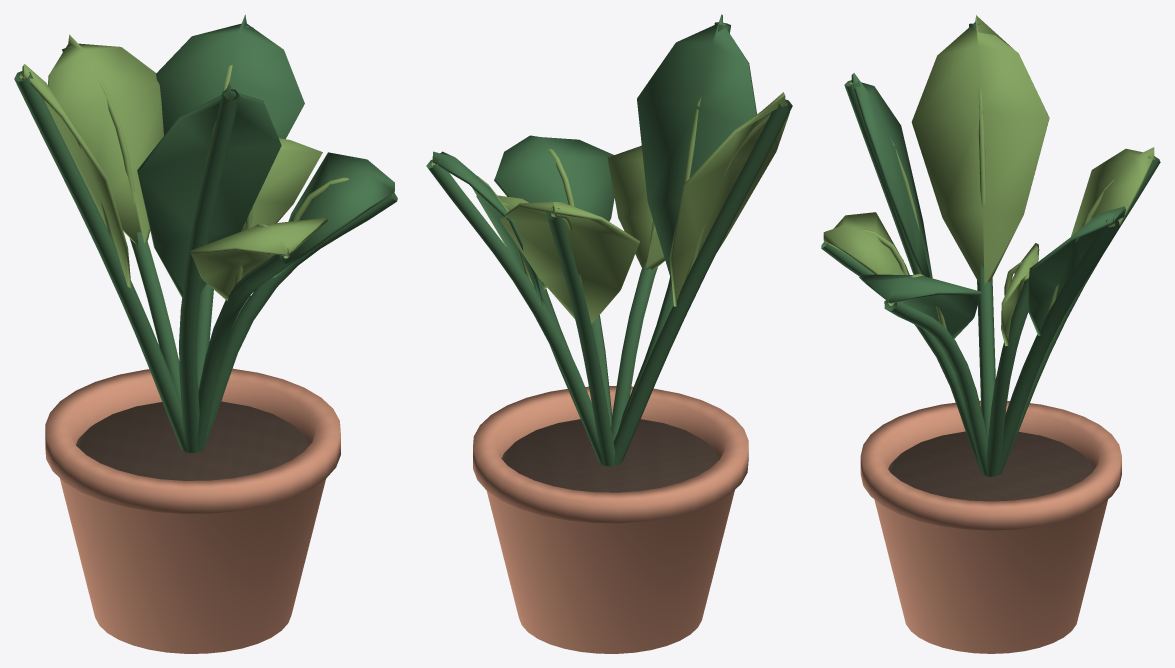
File: plant.glb
3 renders of one model, left to right at view 1: azimuth 30°, elevation 25°; view 2: azimuth 150°, elevation 25°; view 3: azimuth 270°, elevation 25°, orthographic. The views are drawn at different scales.
Parts seen in each view (by area): view 1: Crafted_leaf, Crafted_ceramic, Crafted_lightleaf, Crafted_soil; view 2: Crafted_ceramic, Crafted_leaf, Crafted_lightleaf, Crafted_soil; view 3: Crafted_ceramic, Crafted_lightleaf, Crafted_leaf, Crafted_soil.
Part boxes in pixels (x1,y1,x2,y2): Crafted_leaf: [14, 14, 397, 452]; Crafted_ceramic: [45, 368, 340, 653]; Crafted_lightleaf: [19, 34, 392, 300]; Crafted_soil: [76, 401, 309, 480]; Crafted_ceramic: [473, 386, 748, 653]; Crafted_leaf: [426, 14, 792, 466]; Crafted_lightleaf: [431, 24, 789, 324]; Crafted_soil: [501, 419, 719, 492]; Crafted_ceramic: [860, 400, 1121, 653]; Crafted_lightleaf: [823, 15, 1155, 346]; Crafted_leaf: [821, 23, 1160, 476]; Crafted_soil: [888, 431, 1094, 501].
Size of the model in its own units: 0.4287 by 0.7351 by 0.4288.
4 materials, 1 textured.
